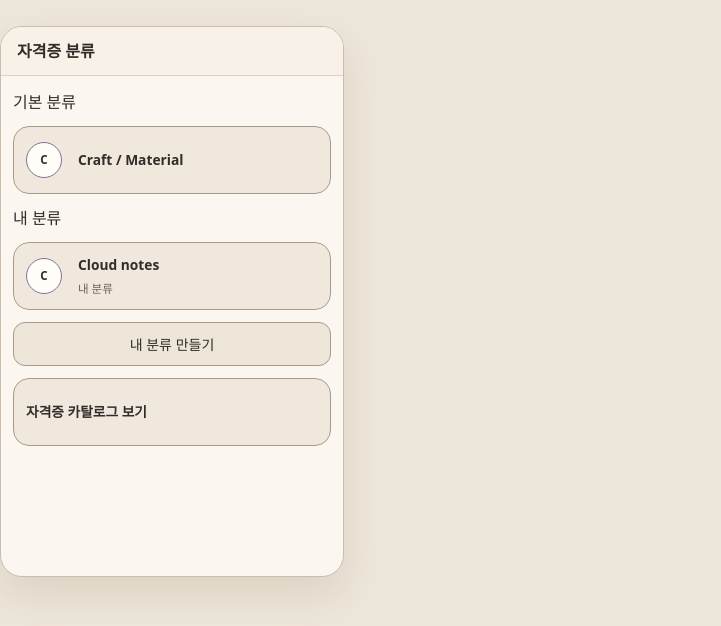
Test: 보유 공식 분류는 기존 보유 응답의 OTHER 대신 카탈로그 상세 코드로 연결한다
What coordinates should you click on to do the following:
click the button "C Craft / Material"
I would click on:
 (172, 160)
Its box is [13,126,331,194].
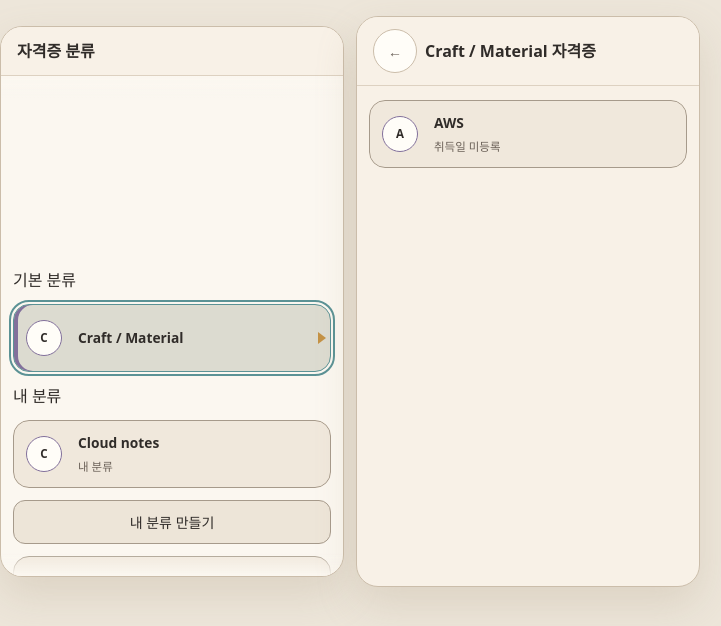
Check: the button "A AWS 취득일 미등록" does not show "null", box [369,100,687,168]
Check: the button "A AWS 취득일 미등록" is shown, box [369,100,687,168]
